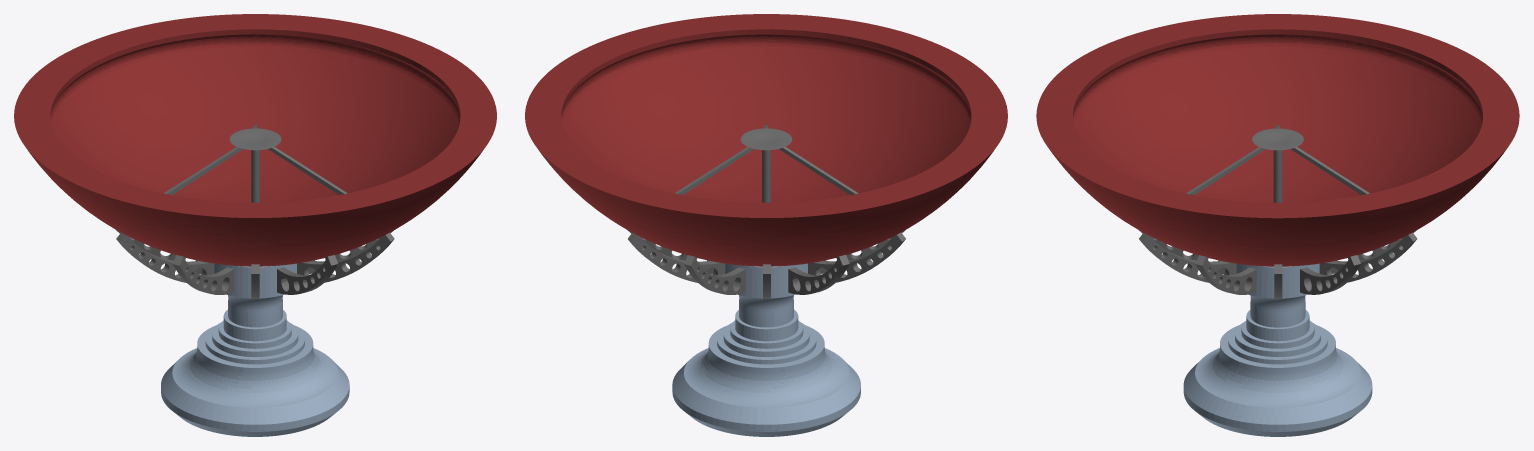
File: radar2.glb
The picture shows the model from 3 angles, left to right: view 1: azimuth 30°, elevation 25°; view 2: azimuth 150°, elevation 25°; view 3: azimuth 270°, elevation 25°; orthographic projection.
Parts seen in each view (by area): view 1: dish_01, mounting3_, struts_01, mounting2_, mounting1_, emstruts_0, emitter2_0, emitter1_0; view 2: dish_01, mounting3_, struts_01, mounting2_, mounting1_, emstruts_0, emitter2_0, emitter1_0; view 3: dish_01, mounting3_, struts_01, mounting2_, mounting1_, emstruts_0, emitter2_0, emitter1_0.
Part boxes in pixels (x1,y1,x2,y2): dish_01: (14,14,496,266); mounting3_: (161,325,349,436); struts_01: (115,229,394,298); mounting2_: (205,309,304,364); mounting1_: (214,263,296,327); emstruts_0: (163,125,347,194); emitter2_0: (229,128,281,150); emitter1_0: (251,150,259,202); dish_01: (525,14,1007,266); mounting3_: (672,325,860,436); struts_01: (627,230,905,298); mounting2_: (717,309,816,364); mounting1_: (725,263,807,327); emstruts_0: (674,125,858,194); emitter2_0: (740,128,792,150); emitter1_0: (762,150,770,202); dish_01: (1036,14,1519,266); mounting3_: (1183,325,1372,436); struts_01: (1139,230,1417,298); mounting2_: (1228,310,1327,364); mounting1_: (1236,263,1319,327); emstruts_0: (1186,125,1369,195); emitter2_0: (1252,128,1303,150); emitter1_0: (1273,150,1282,202).
Size of the model in its own units: 99.99 by 65.21 by 100.
